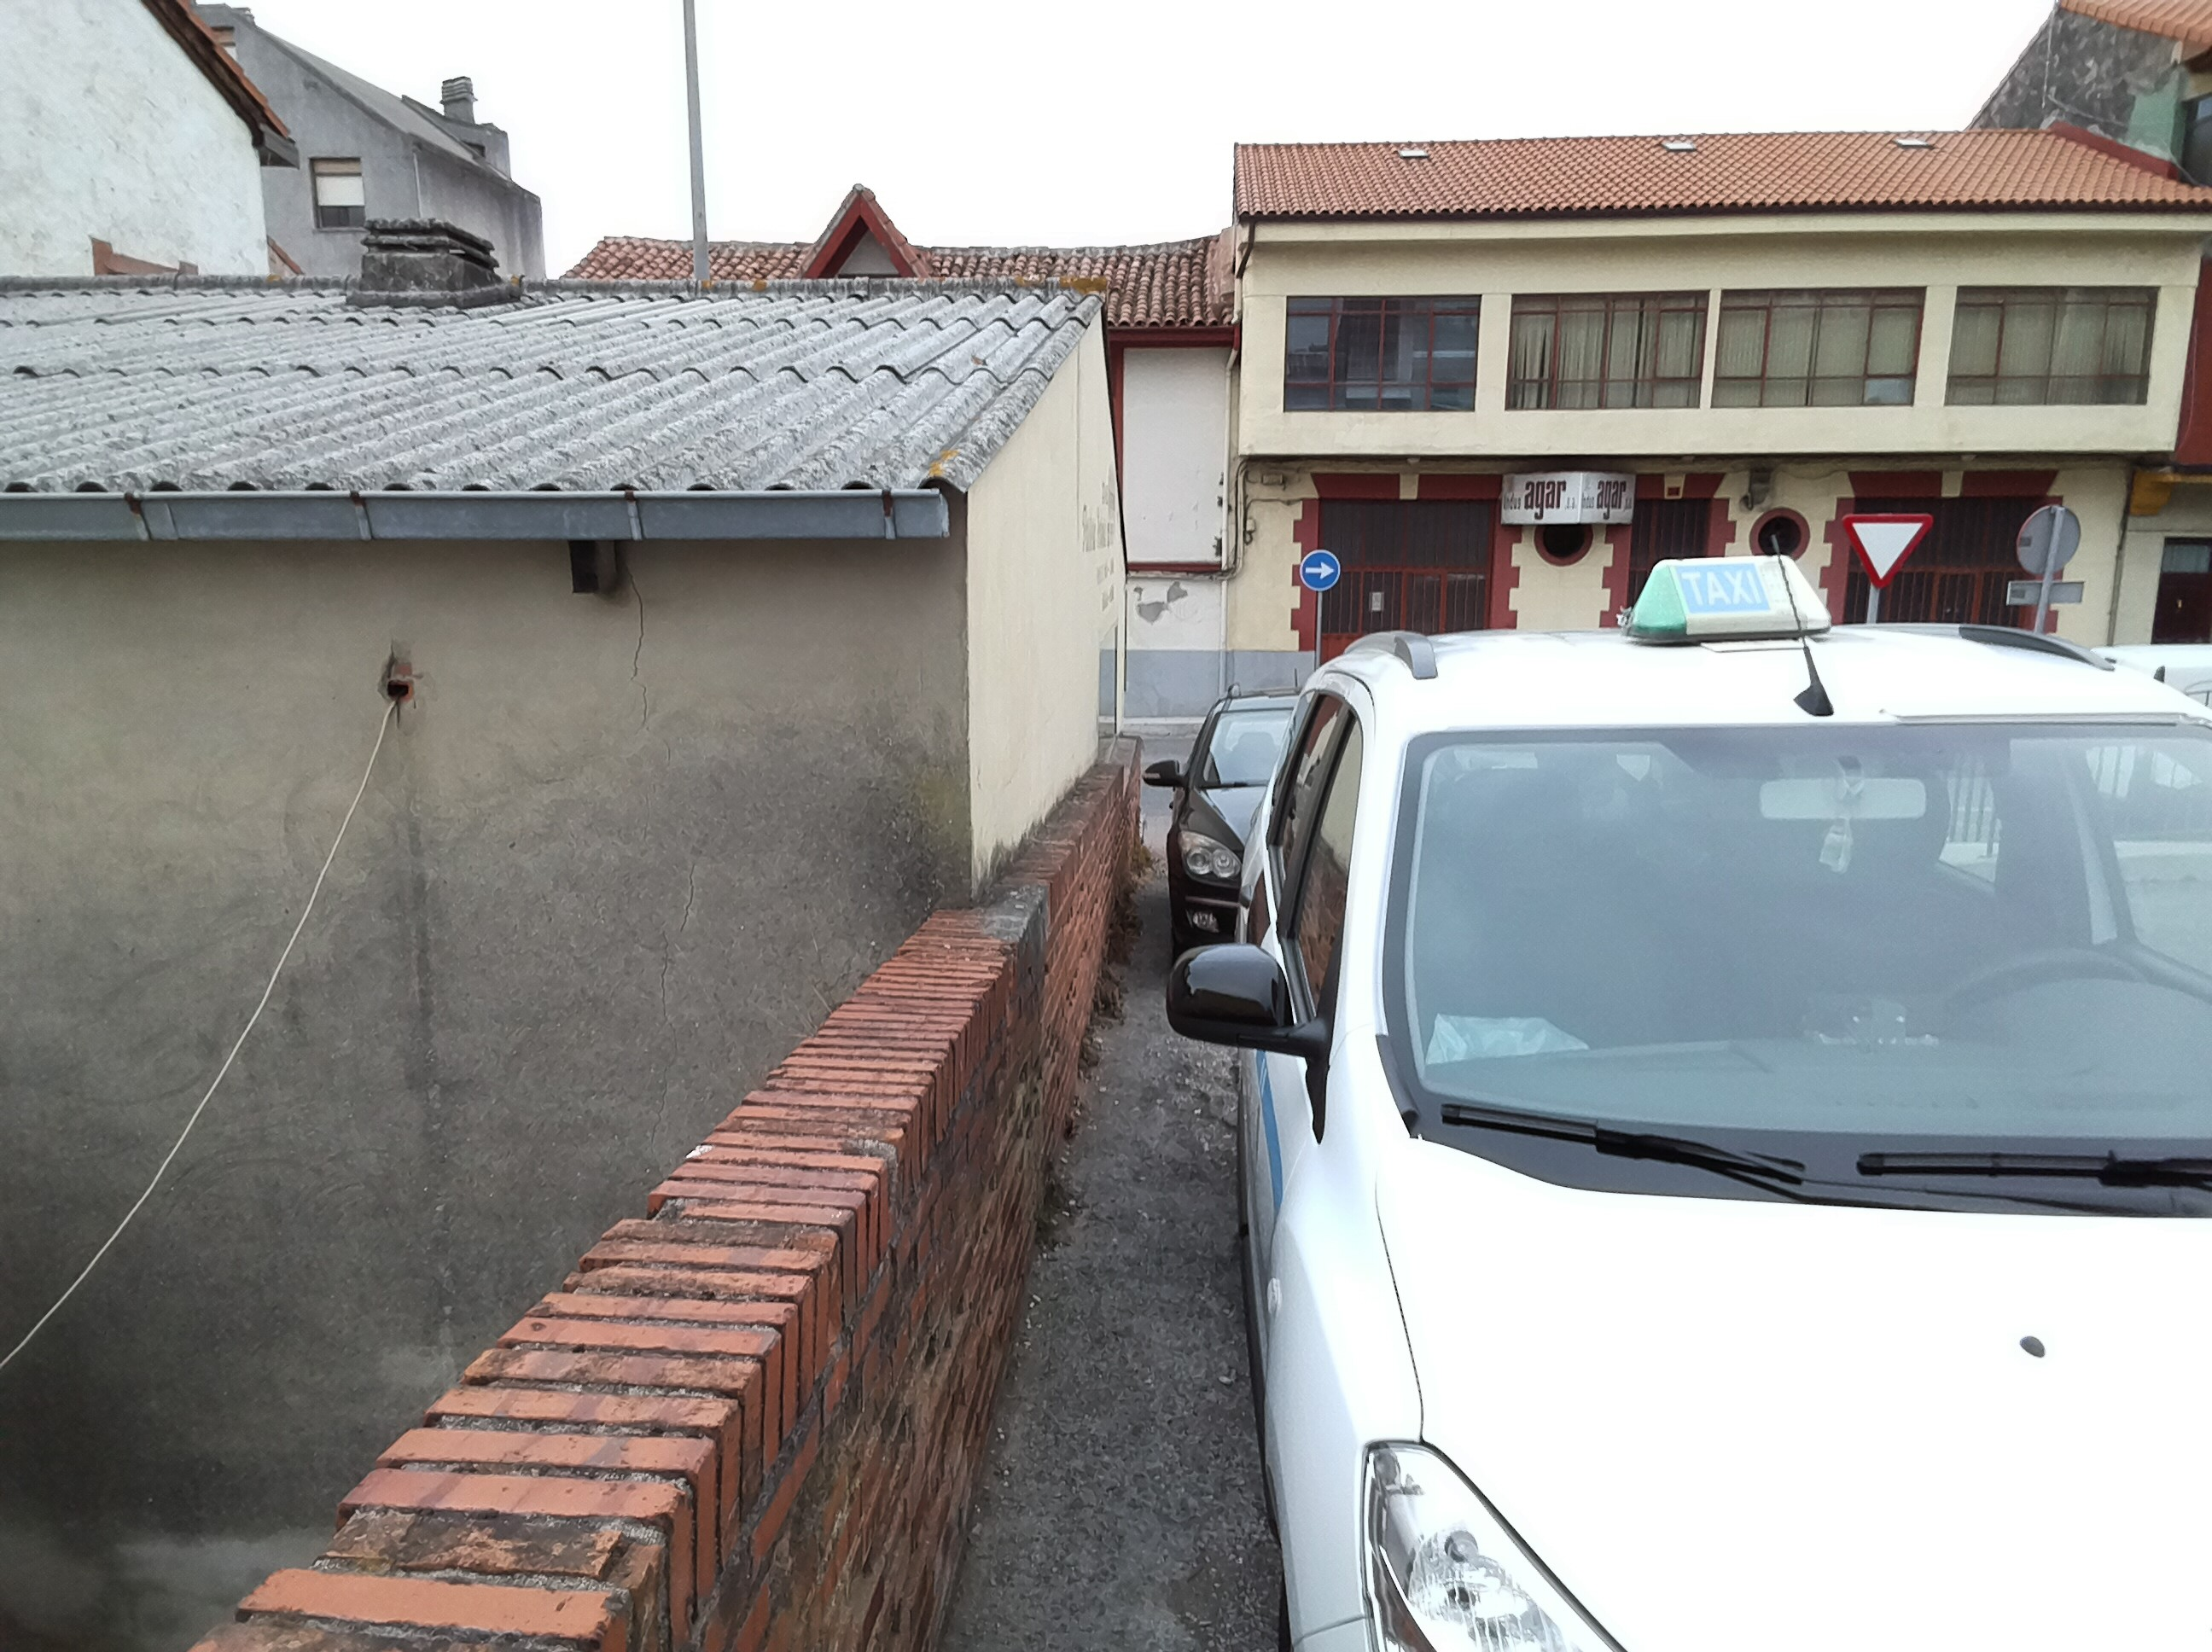Cartel: (1605, 540, 1836, 640)
Muro: (7, 534, 972, 1255), (399, 916, 978, 1652), (932, 293, 1135, 855)
Vehiculo: (1239, 630, 2207, 1652)
